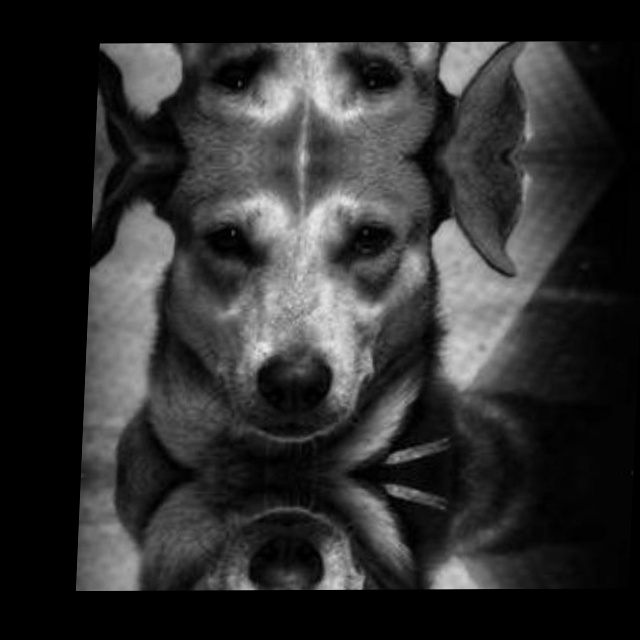dog: (116, 156, 533, 430), (128, 41, 538, 158), (109, 519, 517, 591)
